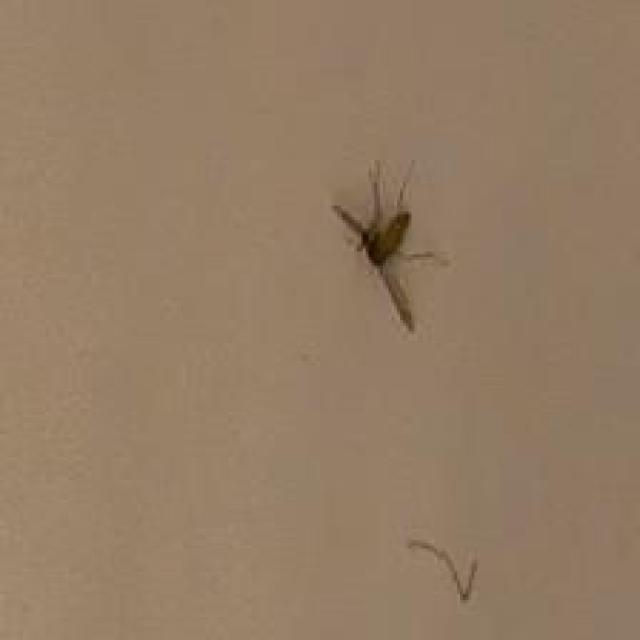Culex: (330, 156, 450, 333)
